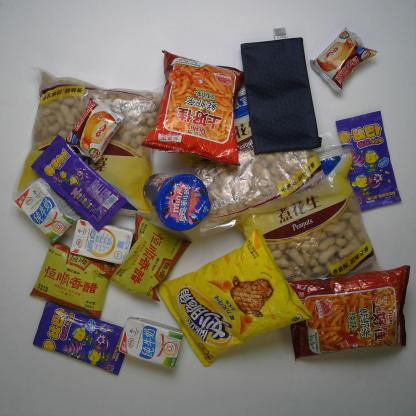Candy: (29, 131, 136, 235), (32, 297, 134, 376), (335, 109, 402, 214)
Dessert: (56, 91, 127, 168), (308, 24, 378, 99), (139, 169, 213, 234)
Dried Food: (166, 62, 335, 237), (242, 143, 384, 321), (14, 66, 171, 222)
Milk: (12, 176, 84, 244), (68, 212, 139, 272), (116, 311, 184, 373)
Puffed Food: (154, 226, 315, 370), (281, 262, 413, 365), (138, 48, 248, 171)
Seasoner: (101, 210, 194, 308), (26, 236, 116, 322)
Stationery: (239, 26, 324, 156)
